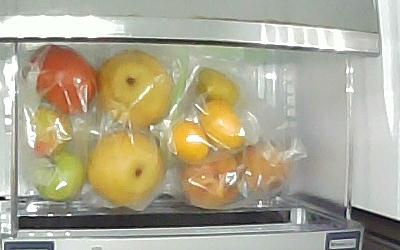peach_vinyl: (180, 152, 240, 208), (239, 146, 288, 192)
pear_vinyl: (97, 51, 176, 128), (88, 131, 166, 205)
tangerine_vinyl: (200, 99, 247, 151), (197, 68, 241, 112), (171, 121, 210, 163)
tomato_vinyl: (26, 46, 98, 114), (34, 151, 85, 202), (34, 107, 73, 155)
